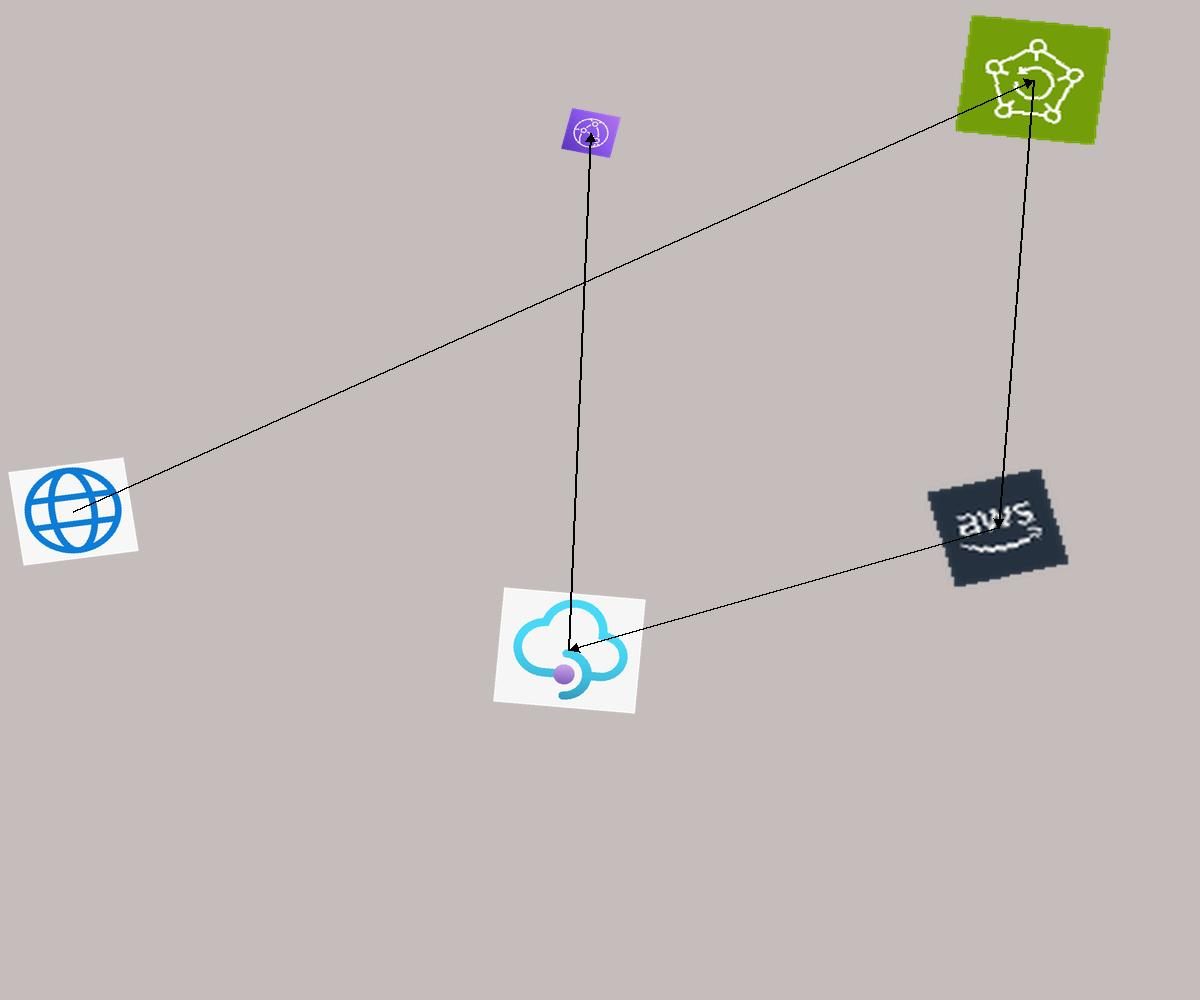AWS-Backup: (954, 14, 1112, 146)
AWS-Cloud-logo: (925, 467, 1071, 589)
AWS-CloudFront: (561, 108, 621, 158)
Azure_api_gateway: (493, 587, 646, 714)
Azure_http: (8, 457, 139, 566)
